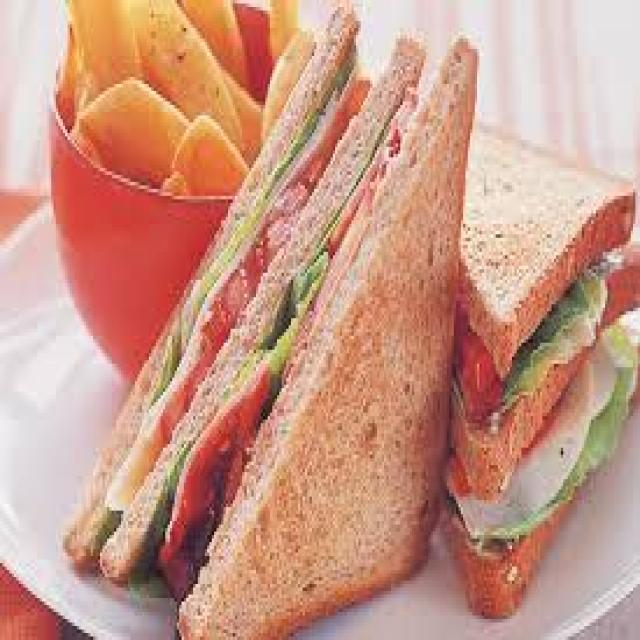Sandwich: (135, 70, 468, 605), (472, 131, 640, 588)
